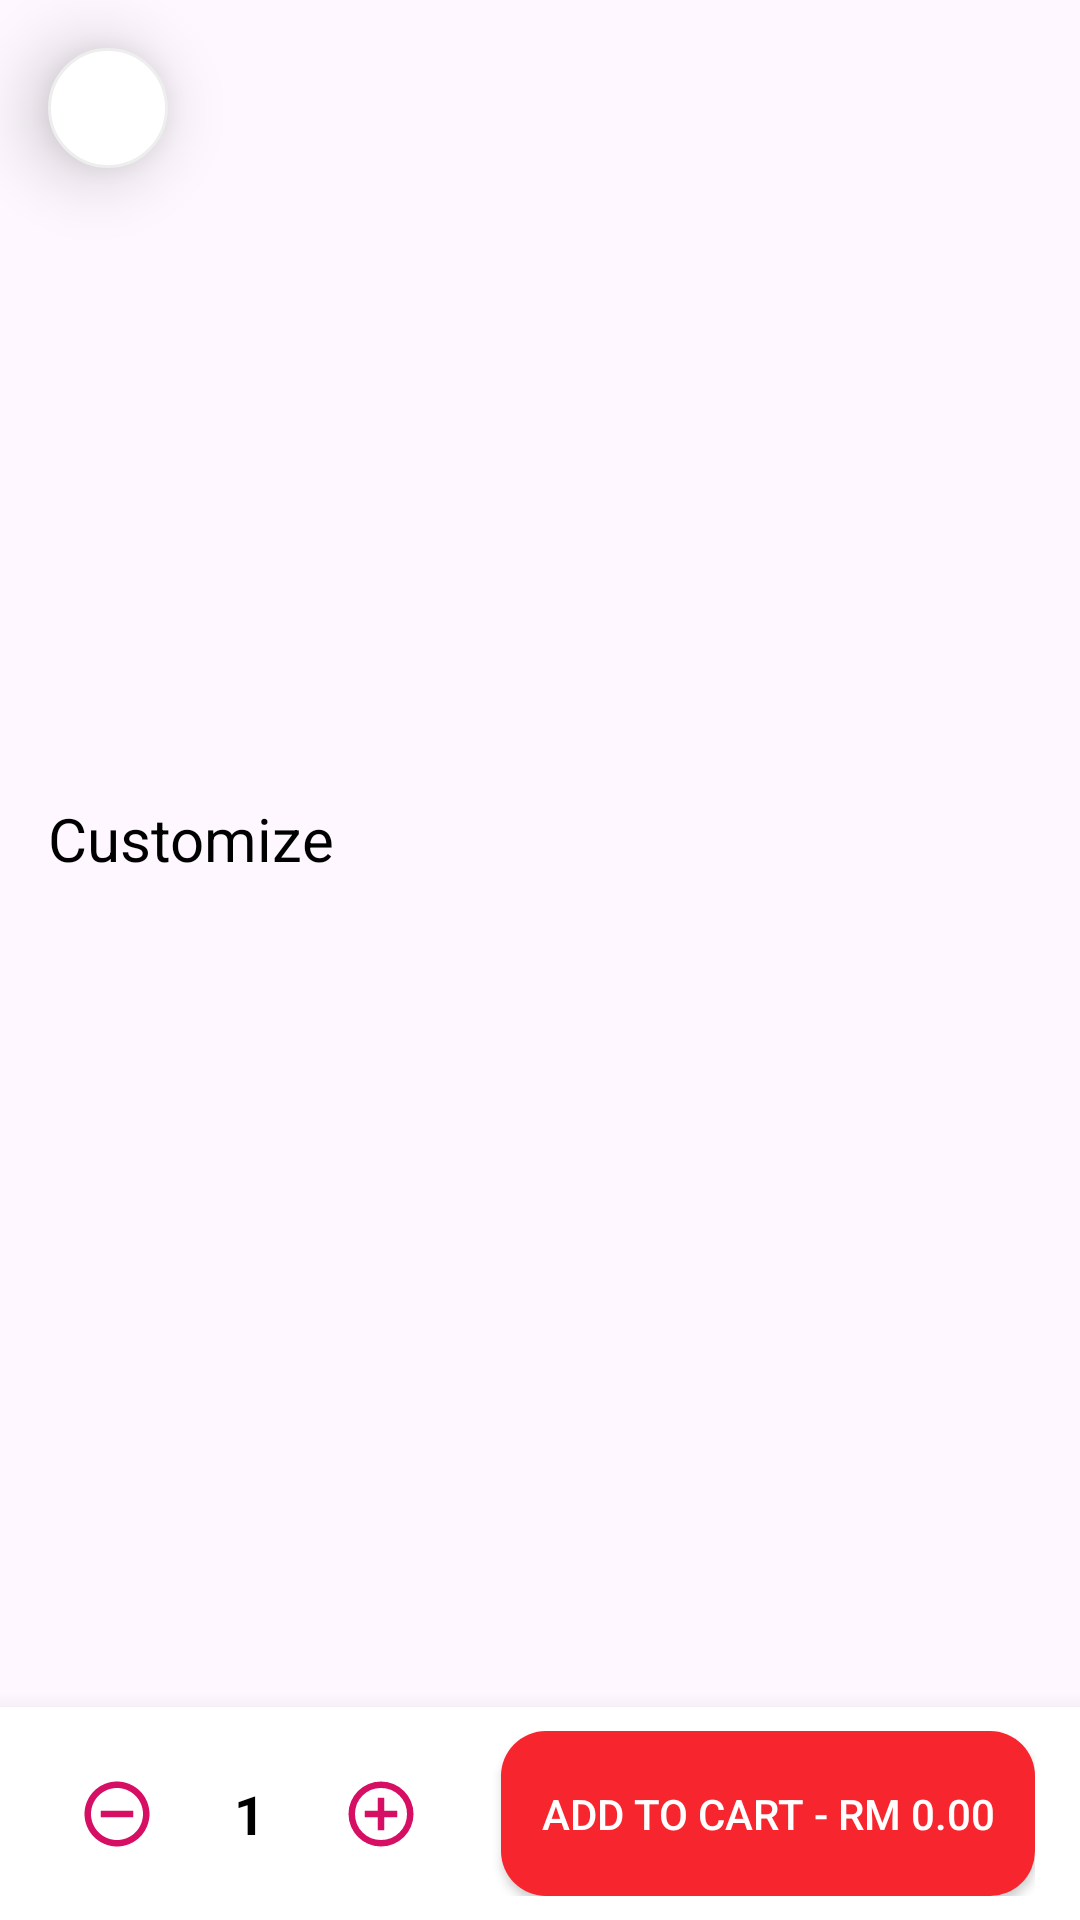

Where to tap for icons on this 1080×1920 app screen, as point (x, y):
Minus: point (117, 1814)
Plus: point (381, 1814)
